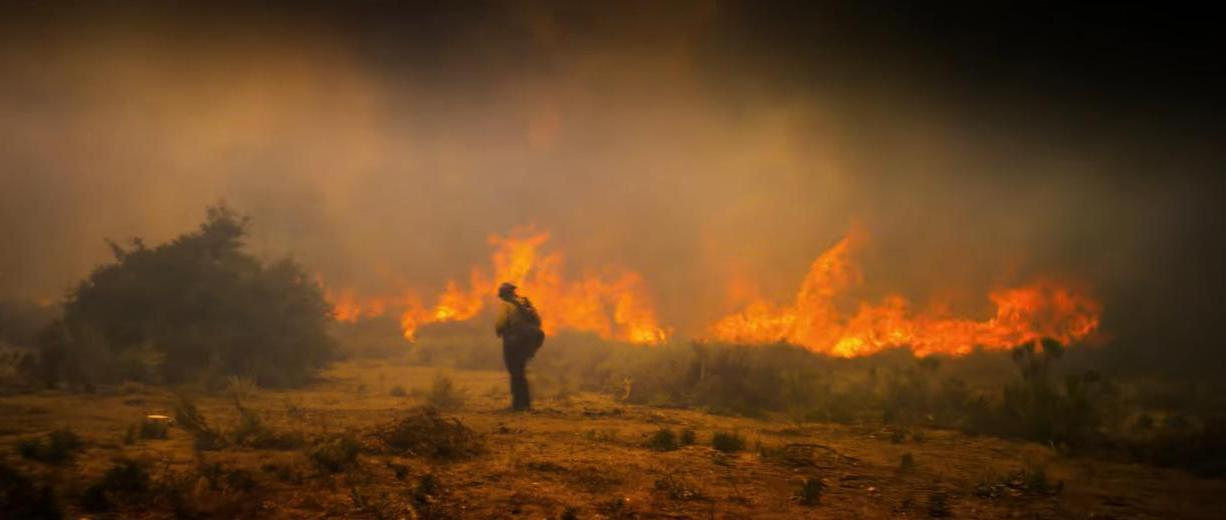Fire: (692, 223, 1116, 375), (333, 211, 679, 360)
